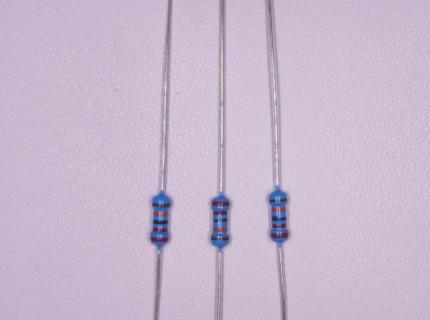Black band: (153, 220, 168, 225), (272, 216, 286, 221), (213, 219, 227, 222)
Brown band: (153, 203, 171, 207), (211, 236, 229, 240), (269, 199, 287, 203)
Orange band: (272, 207, 286, 212), (154, 212, 167, 217), (214, 227, 227, 232)
Red band: (271, 233, 289, 239), (151, 237, 169, 242), (212, 201, 229, 206), (153, 228, 167, 233), (213, 211, 227, 215), (272, 224, 285, 228)
